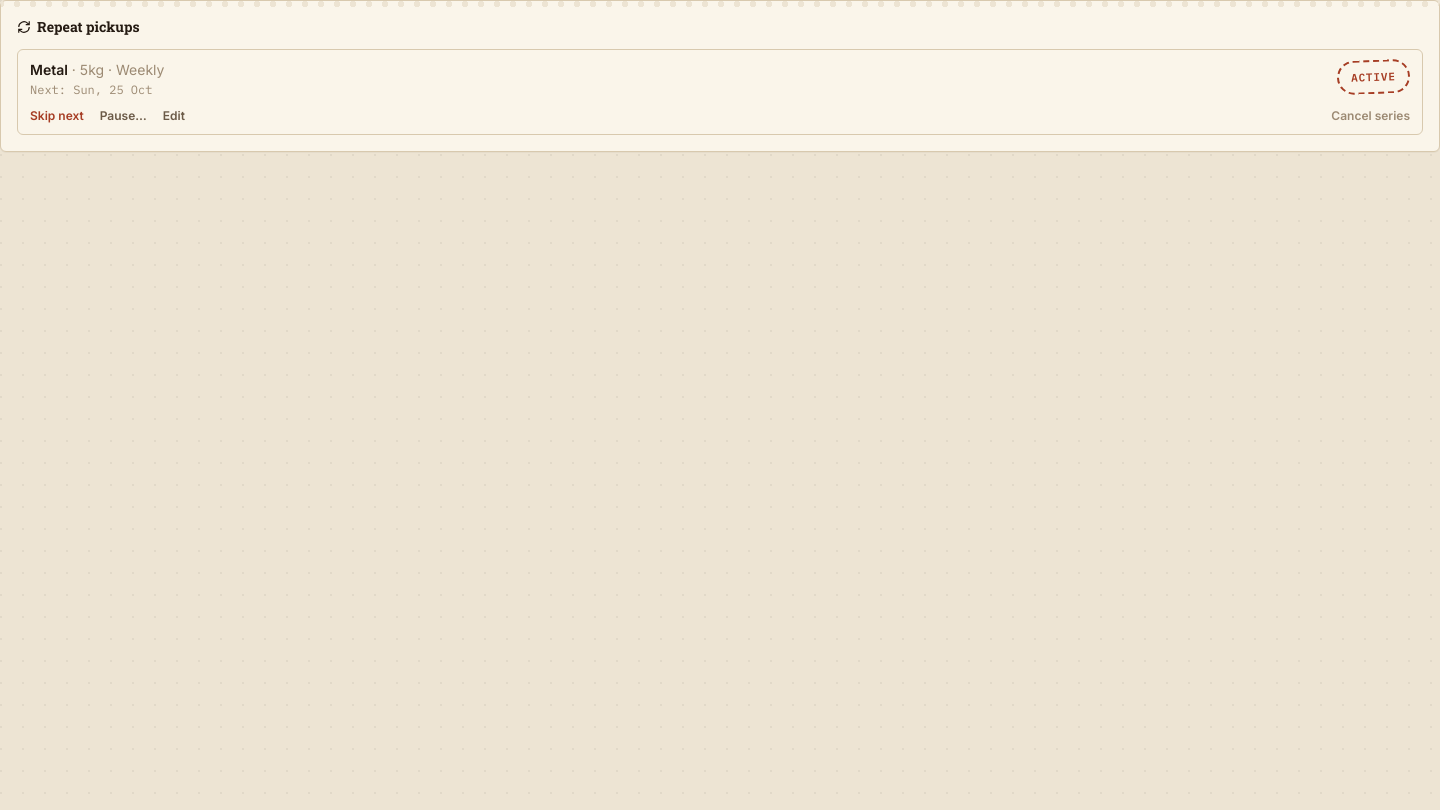
Test: RecurringPickupsPanel › a malformed (empty) response shows an error rather than crashing the panel
The image size is (1440, 810).
Click the button "Skip next" at [57, 116], box [30, 108, 84, 124]
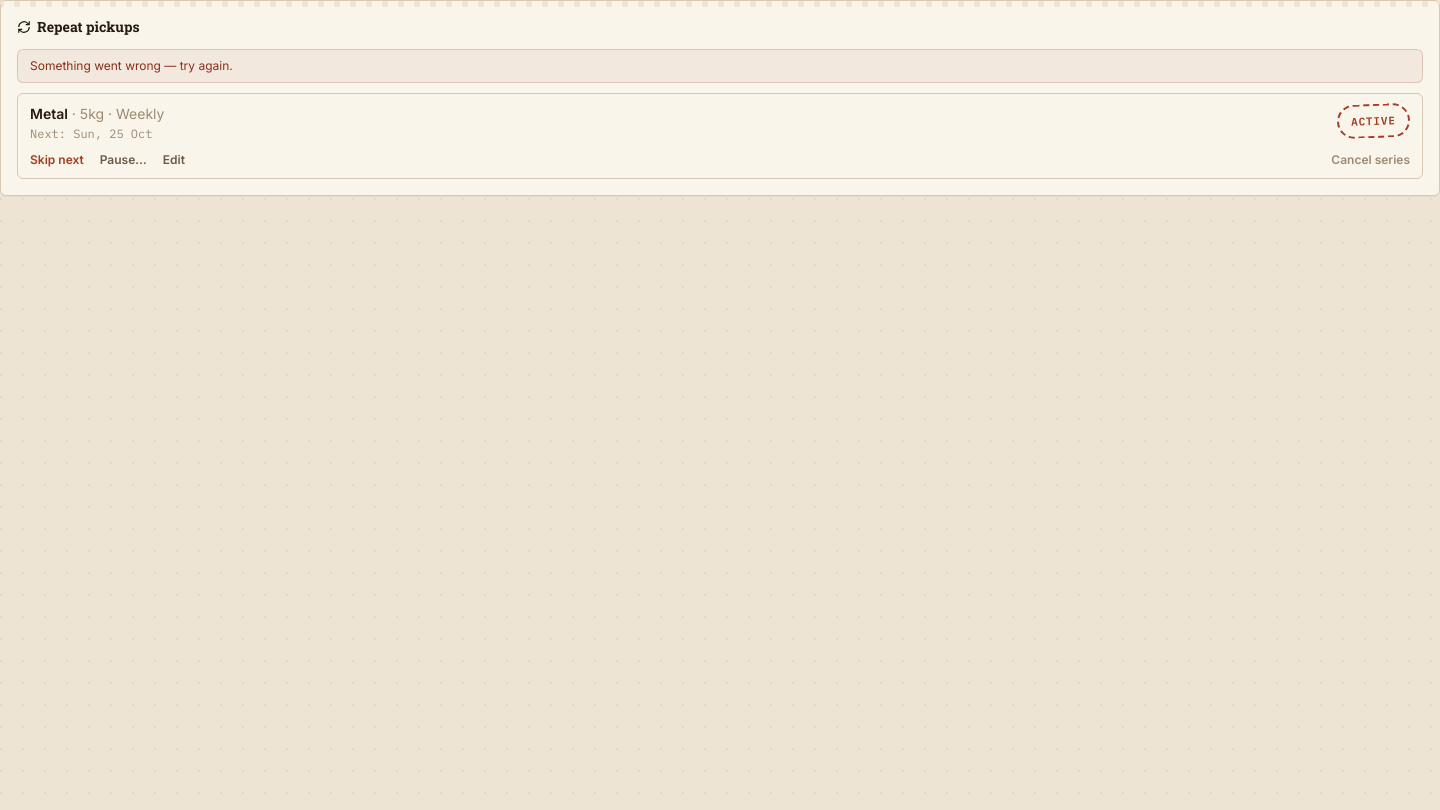
Expected: the text "Metal" is shown, [30, 105, 68, 122]
Result: the message "Something went wrong — try again." is shown at [17, 49, 1423, 83]
